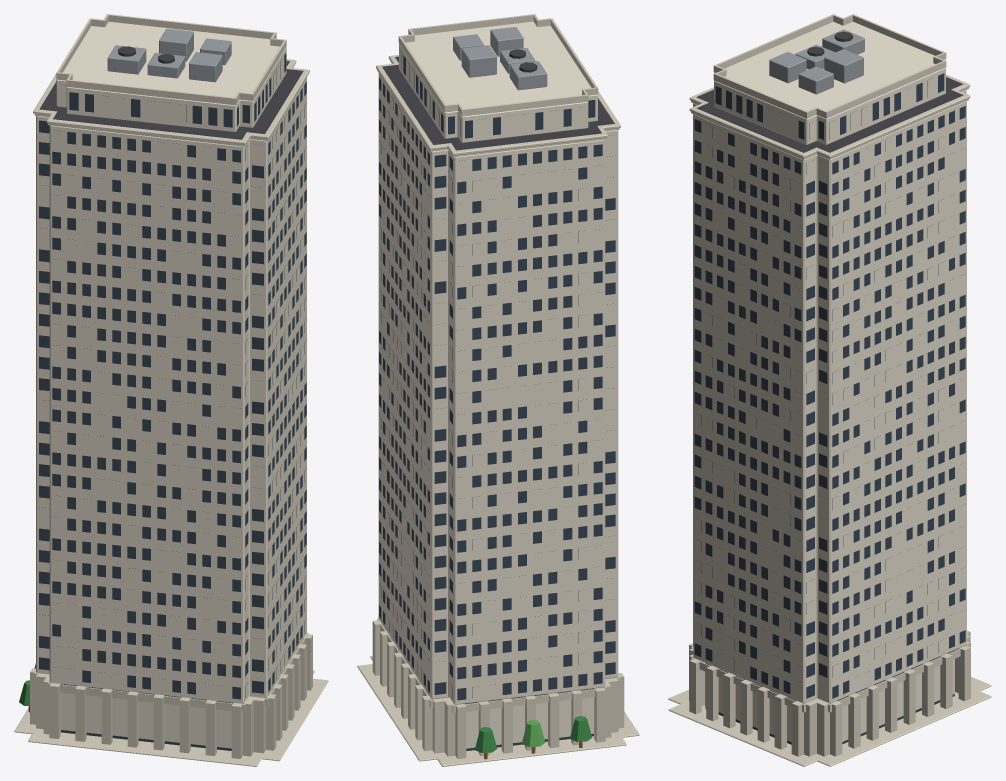
File: 123-mission.glb
3 views of the same model, side by side, from view 1: azimuth 30°, elevation 25°; view 2: azimuth 150°, elevation 25°; view 3: azimuth 270°, elevation 25° (orthographic). The views are drawn at different scales.
Visible parts, largest first — view 1: 123-mission_body, 123-mission_night_glow; view 2: 123-mission_body, 123-mission_night_glow; view 3: 123-mission_body, 123-mission_night_glow.
Boxes of the visible parts, x1,y1,x2,y2 form: 123-mission_body: (14,14,328,766); 123-mission_night_glow: (38,59,306,748); 123-mission_body: (357,14,639,766); 123-mission_night_glow: (378,49,615,748); 123-mission_body: (668,14,991,766); 123-mission_night_glow: (694,78,965,742).
Bounding box in the file's own units: 56.23 × 124 × 56.14.
